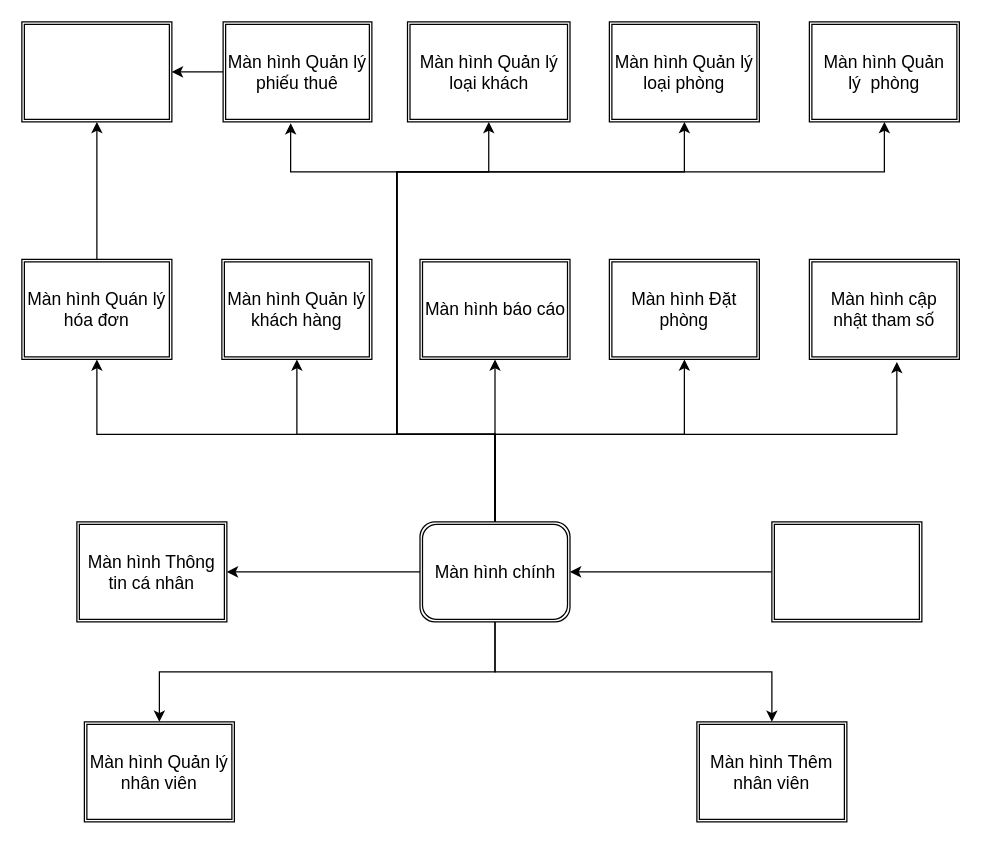
Some shapes in this 981 by 844 pixel diagram are drawn without their labels. Here are the shapes that lost their labels. From the top down, the box of each, then its label:
(21, 21, 172, 122): Màn hình Xuất hóa đơn
(771, 521, 922, 622): Màn hình Đăng nhập
